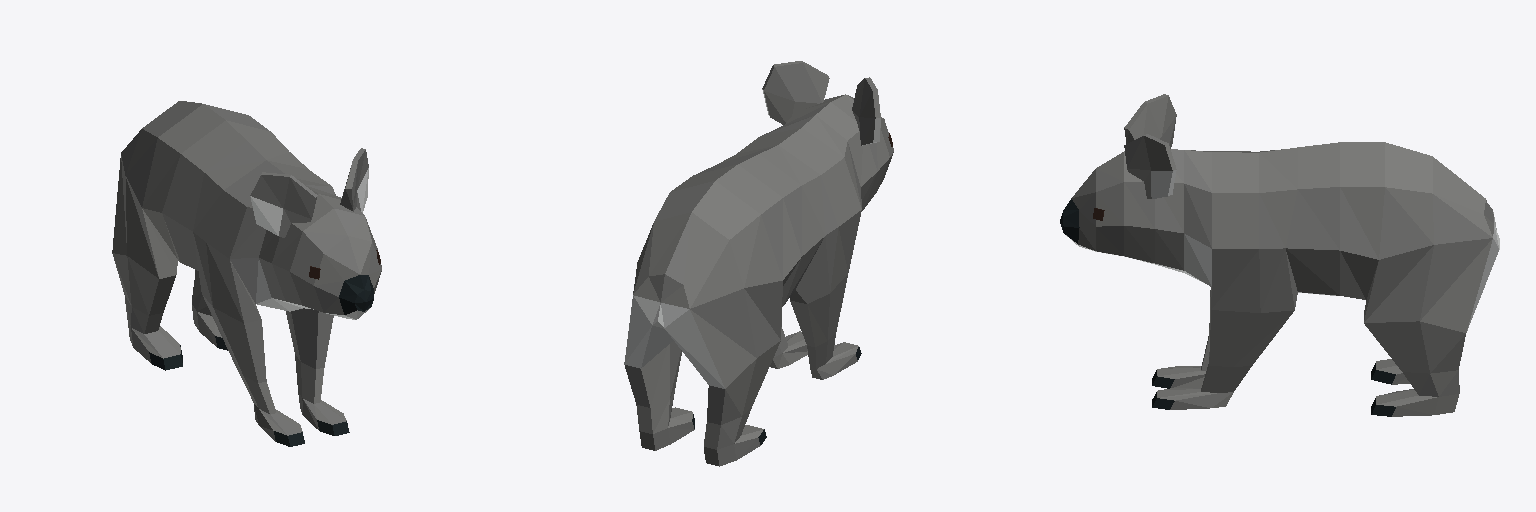
3 renders of one model, left to right at view 1: azimuth 30°, elevation 25°; view 2: azimuth 150°, elevation 25°; view 3: azimuth 270°, elevation 25°, orthographic.
Parts seen in each view (by area): view 1: Geo_Koala; view 2: Geo_Koala; view 3: Geo_Koala.
Boxes of the visible parts, x1,y1,x2,y2 form: Geo_Koala: [112, 101, 381, 446]; Geo_Koala: [624, 61, 893, 466]; Geo_Koala: [1060, 94, 1499, 416].
Size of the model in its own units: 48.04 by 97.6 by 142.
Materials: 1 (1 with a texture image).